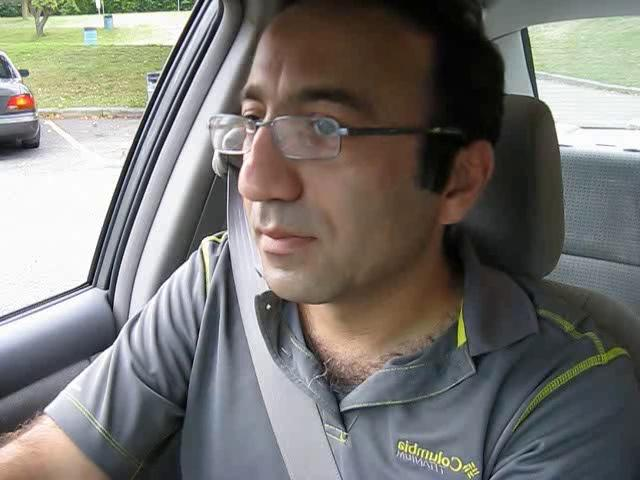no_yawn: (234, 206, 333, 271)
open_eyeL: (224, 100, 276, 144)
open_eyeR: (286, 100, 362, 156)
